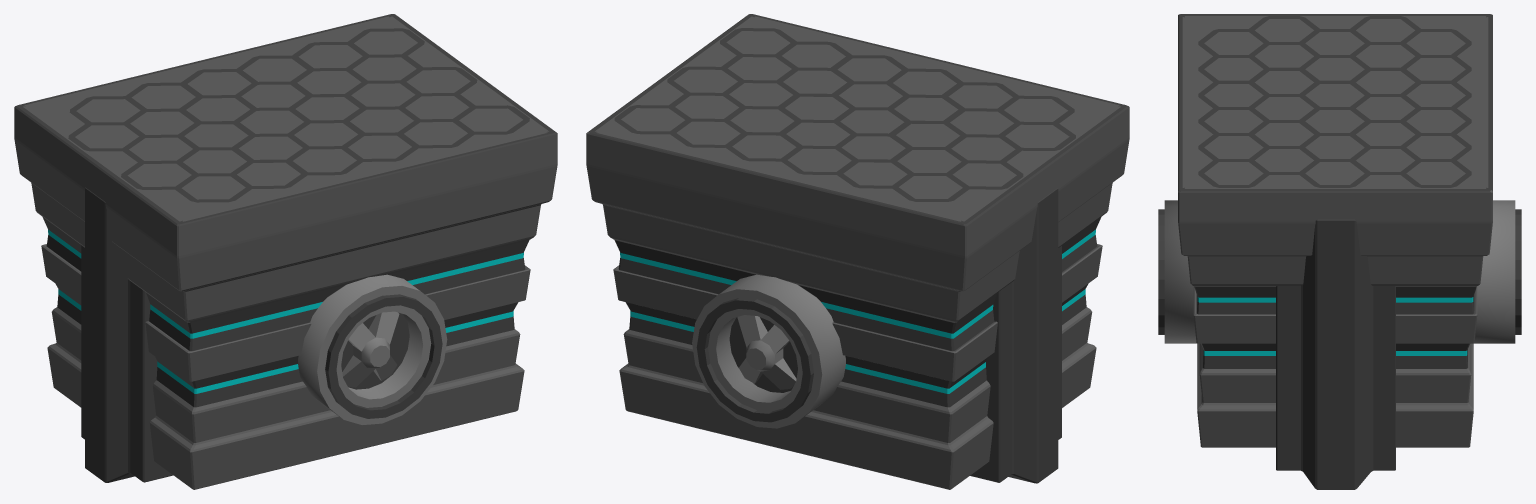
File: Factory_Platform_Small_2.fbx
3 views of the same model, side by side, from view 1: azimuth 30°, elevation 25°; view 2: azimuth 150°, elevation 25°; view 3: azimuth 270°, elevation 25° (orthographic). The views are drawn at different scales.
Parts seen in each view (by area): view 1: Island Platform Small 2; view 2: Island Platform Small 2; view 3: Island Platform Small 2.
Part boxes in pixels (x1,y1,x2,y2): Island Platform Small 2: (14,14,557,489); Island Platform Small 2: (586,14,1129,489); Island Platform Small 2: (1158,14,1521,489).
Size of the model in its own units: 2876 by 2240 by 2468.
